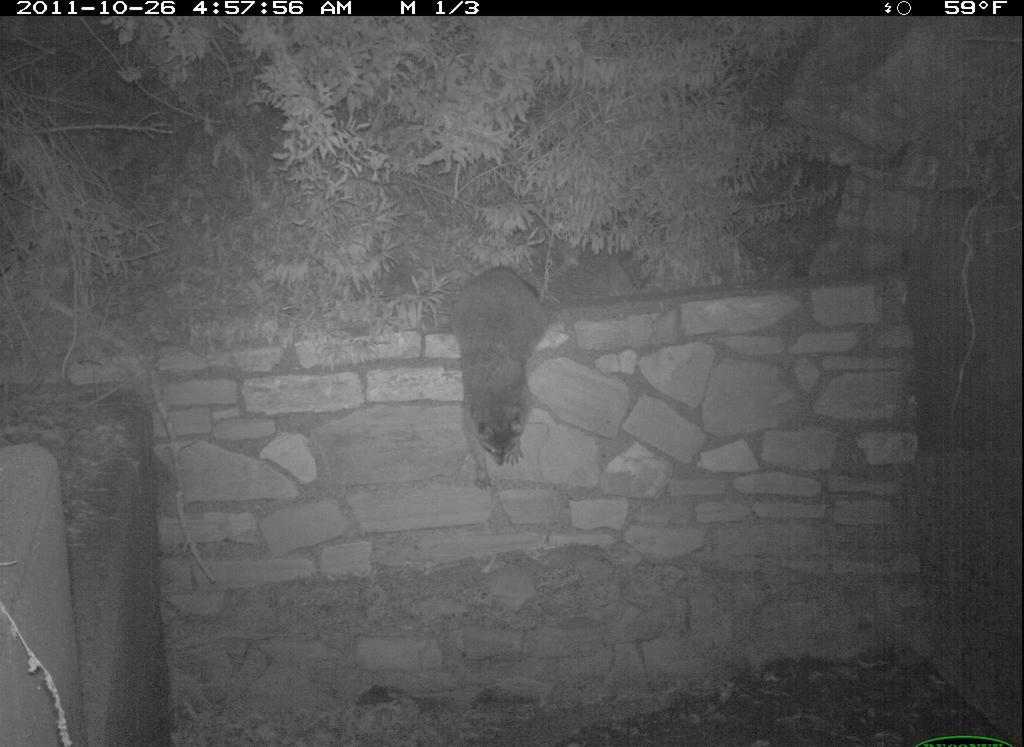raccoon: (438, 245, 566, 496)
